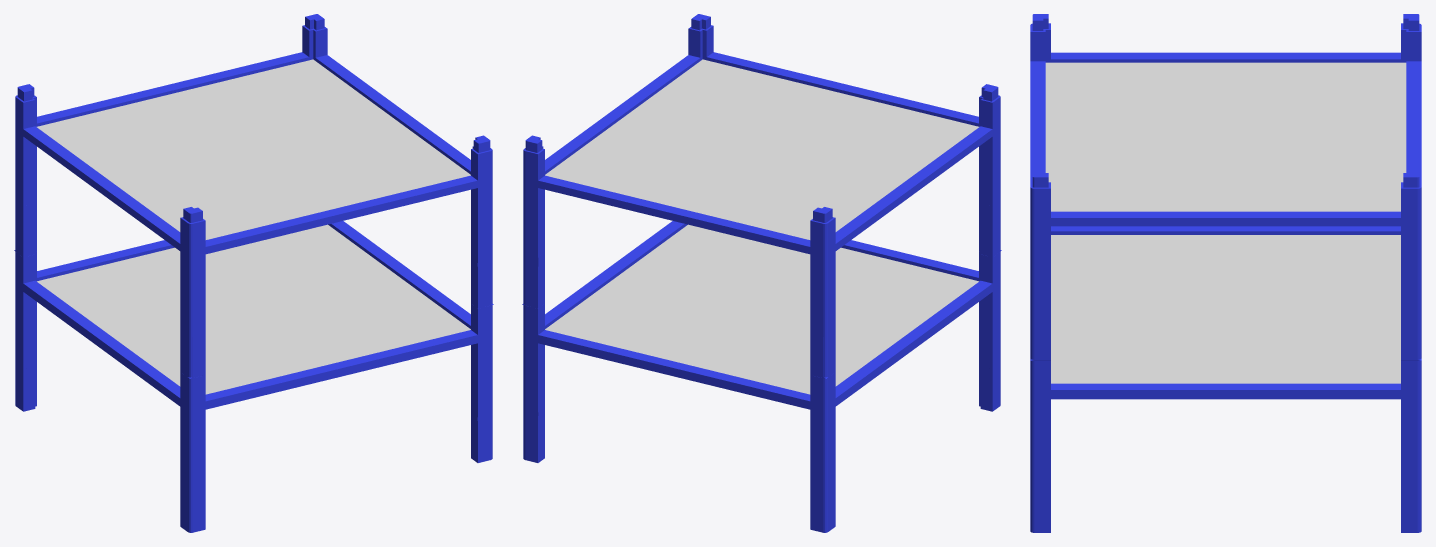
File: Regal.fbx
3 views of the same model, side by side, from view 1: azimuth 30°, elevation 25°; view 2: azimuth 150°, elevation 25°; view 3: azimuth 270°, elevation 25° (orthographic). The views are drawn at different scales.
Parts seen in each view (by area): view 1: Regal; view 2: Regal; view 3: Regal.
Boxes of the visible parts, <box> form: Regal: <box>14,14,493,532</box>; Regal: <box>522,14,1001,532</box>; Regal: <box>1030,14,1421,532</box>.
Size of the model in its own units: 200 by 200 by 200.
